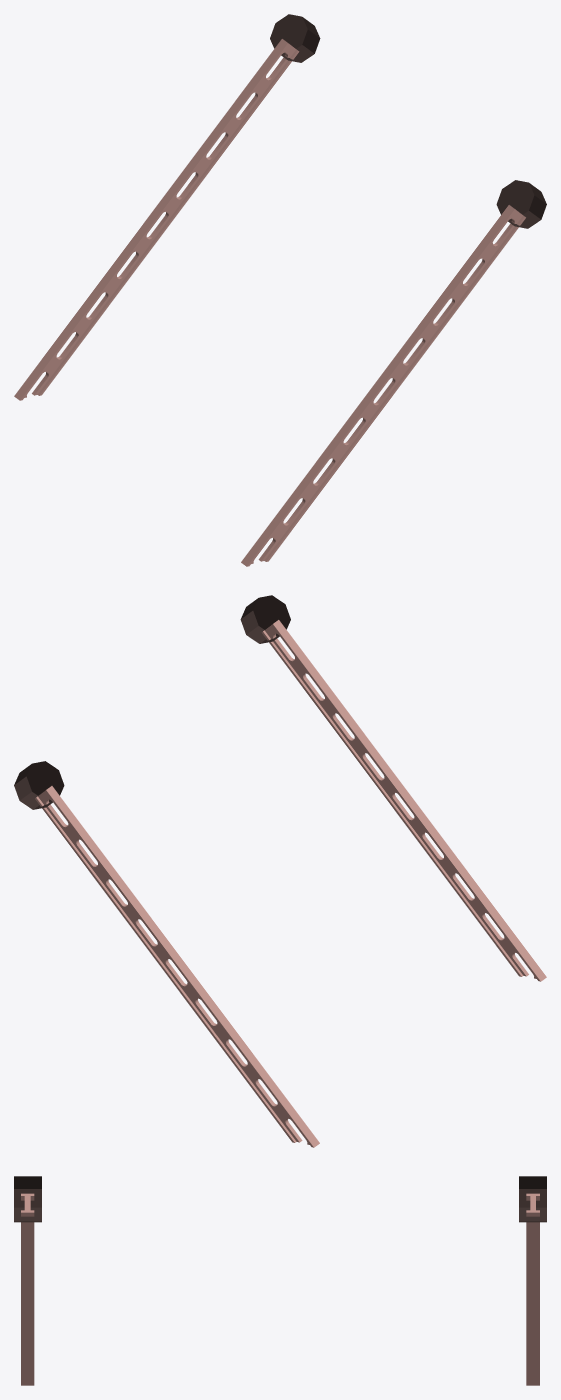
The picture shows the model from 3 angles, top to bottom: view 1: azimuth 30°, elevation 25°; view 2: azimuth 150°, elevation 25°; view 3: azimuth 270°, elevation 25°; orthographic projection. The views are drawn at different scales.
Parts seen in each view (by area): view 1: Upper_bridge.037; view 2: Upper_bridge.037; view 3: Upper_bridge.037.
Boxes of the visible parts, x1,y1,x2,y2 form: Upper_bridge.037: [14, 14, 546, 566]; Upper_bridge.037: [14, 595, 546, 1147]; Upper_bridge.037: [14, 1176, 546, 1385].
Bounding box in the file's own units: 985 × 989 × 1374.
